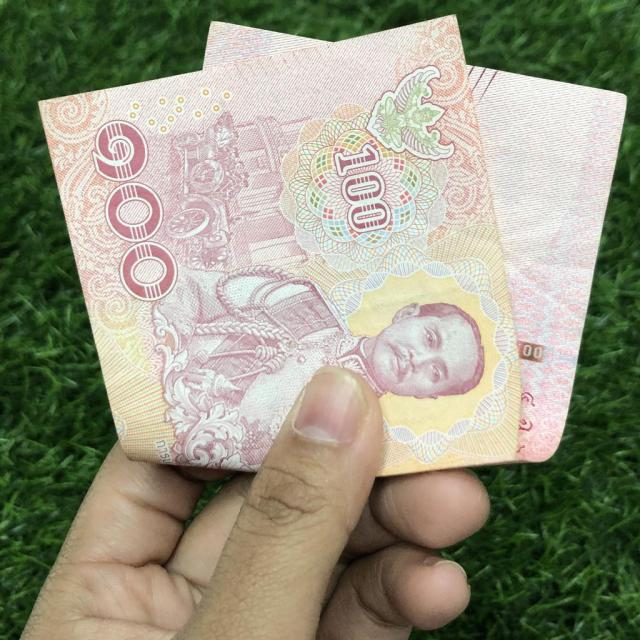THAI100: (39, 16, 626, 475)
